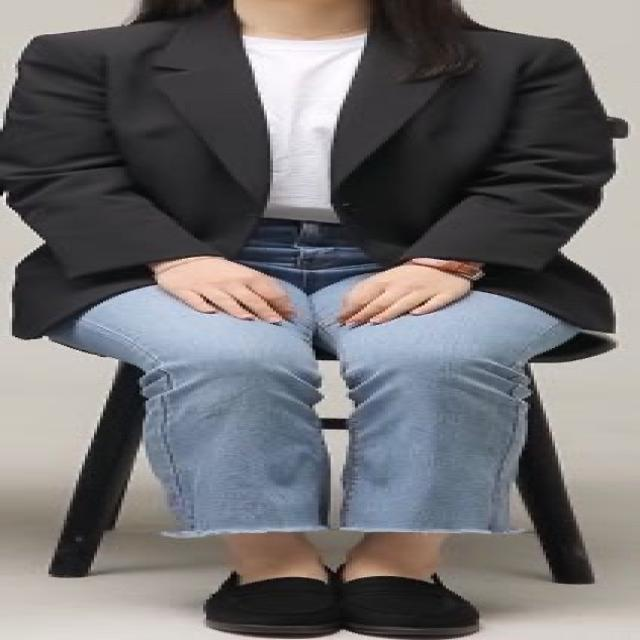blazer: (0, 12, 622, 344)
denimpants: (31, 213, 582, 535)
